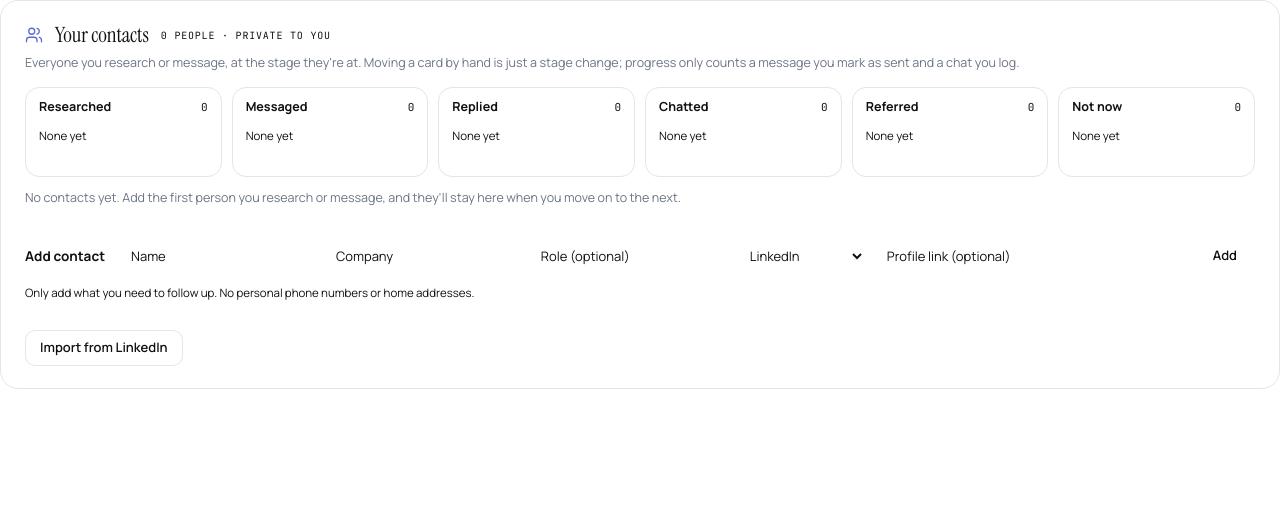
ContactsBoard — add and move › adds a contact into Researched, and says what the form is for
Expected: the text "No personal phone numbers or home addresses" is shown, left=25, top=285, right=474, bottom=300
Expected: the button "Add" is disabled, left=1195, top=236, right=1255, bottom=276
In the field labelled "Name": (216, 256) left=118, top=236, right=314, bottom=276, type "Sam Lee"
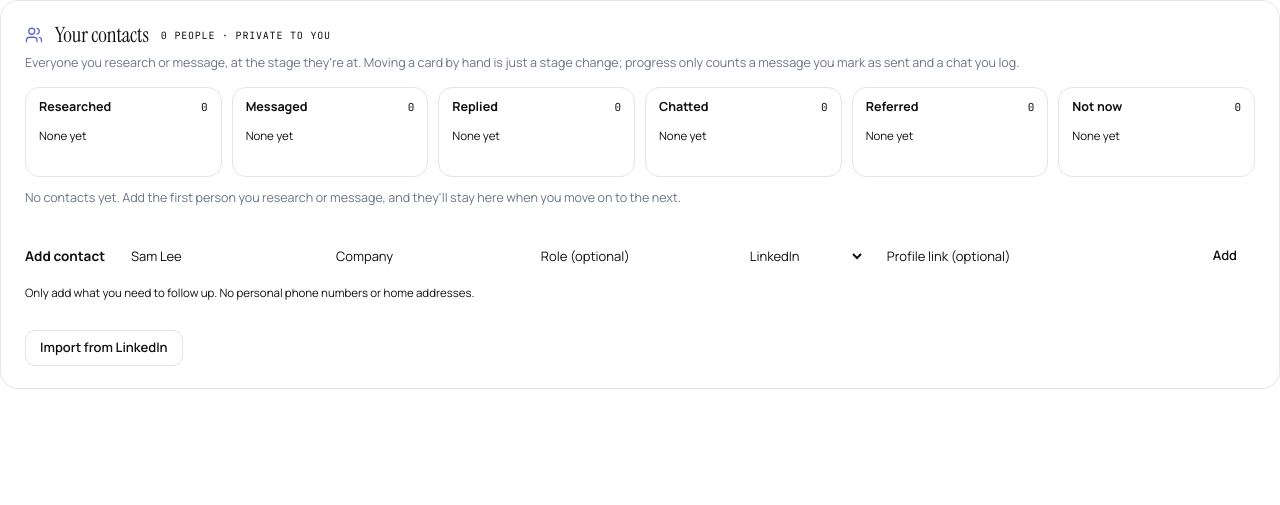
In the field labelled "Company": (421, 256) left=323, top=236, right=519, bottom=276, type "Monzo"
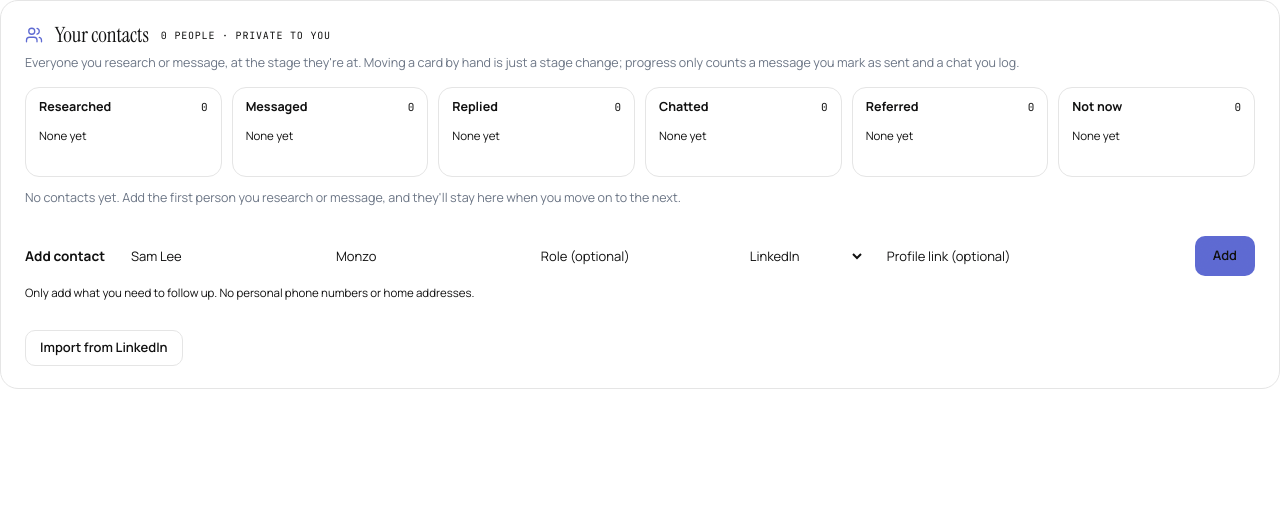
Click the button "Add": (1225, 256) left=1195, top=236, right=1255, bottom=276
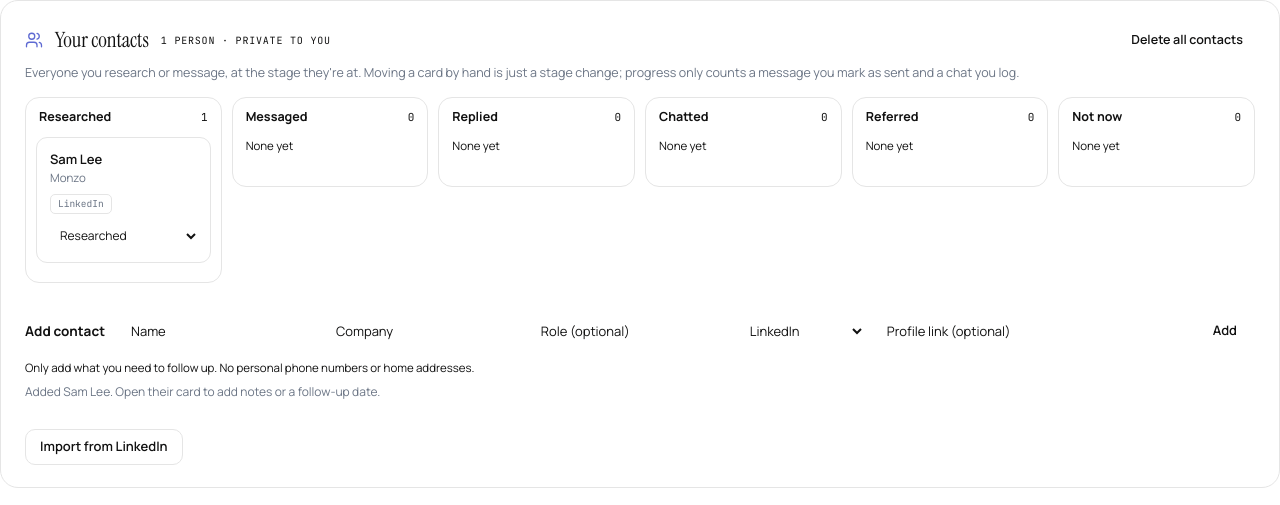
Expected: the text "Sam Lee" is shown, left=50, top=150, right=102, bottom=168
Expected: the message shows "Added Sam Lee", left=25, top=383, right=380, bottom=400
